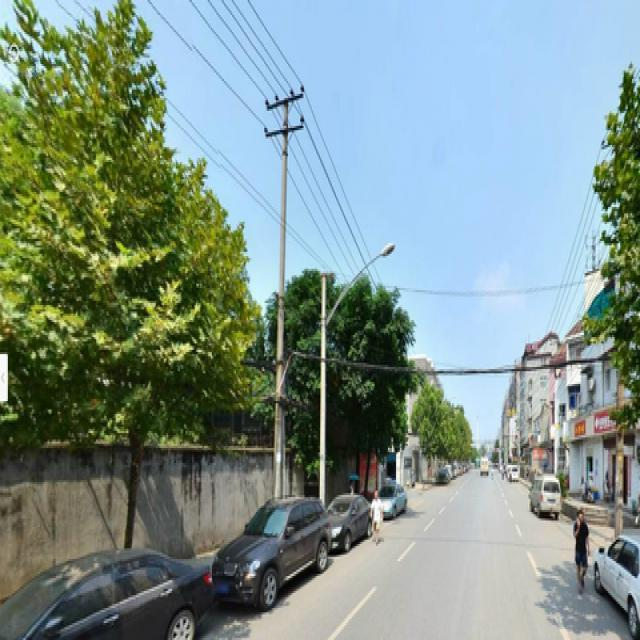meta: (28, 47, 221, 574)
